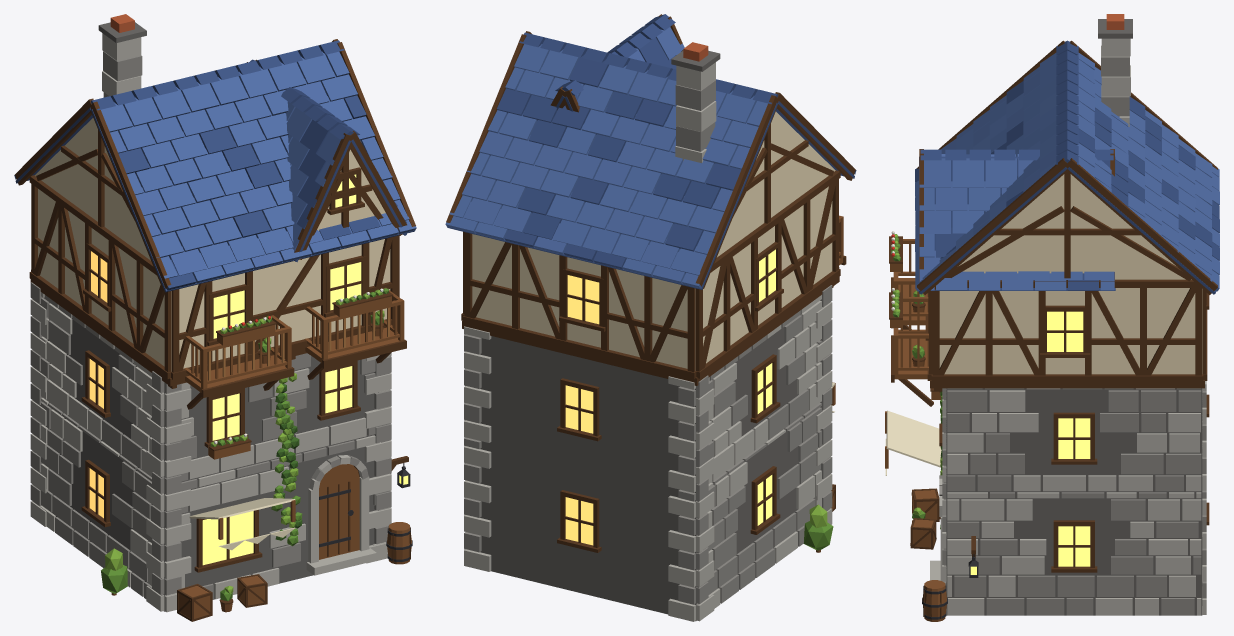
File: Town_08_StoneTower.fbx
The picture shows the model from 3 angles, left to right: view 1: azimuth 30°, elevation 25°; view 2: azimuth 150°, elevation 25°; view 3: azimuth 270°, elevation 25°; orthographic projection. The views are drawn at different scales.
Parts seen in each view (by area): view 1: Town_08_StoneTower_LOD0; view 2: Town_08_StoneTower_LOD0; view 3: Town_08_StoneTower_LOD0.
Boxes of the visible parts, bbox=[...] form: Town_08_StoneTower_LOD0: bbox=[14, 14, 416, 621]; Town_08_StoneTower_LOD0: bbox=[445, 14, 856, 621]; Town_08_StoneTower_LOD0: bbox=[885, 14, 1219, 621].
Size of what is drawn, in the model's own units: 7.18 by 12.33 by 7.32.
